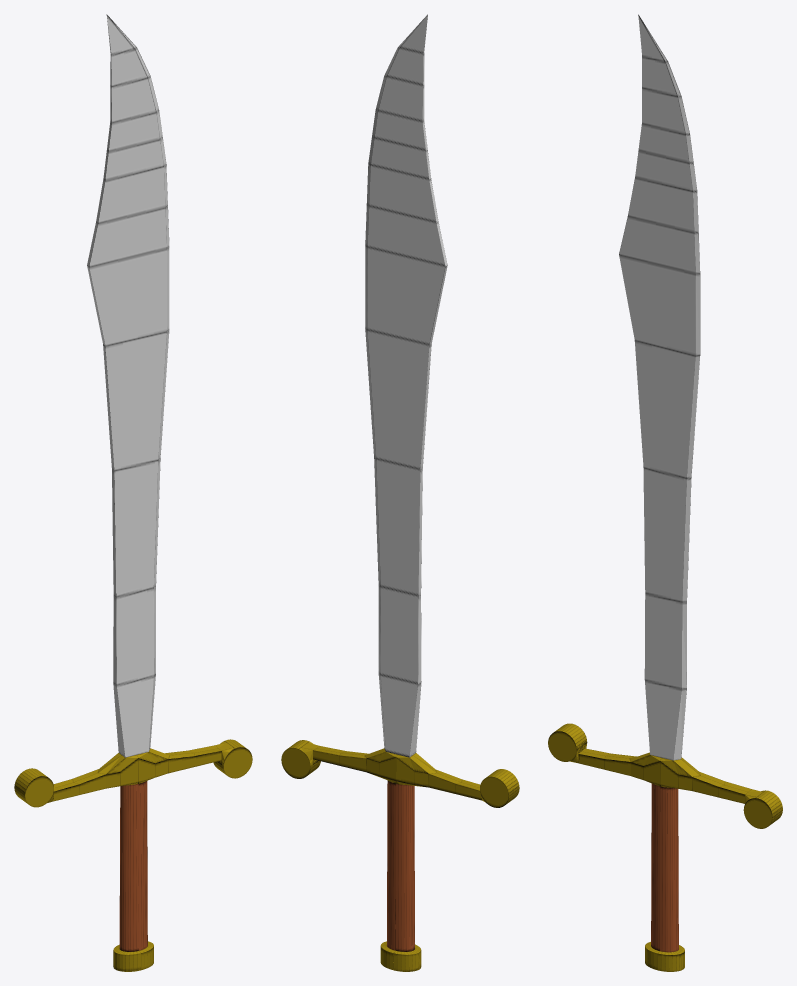
File: scimitar.dae
3 views of the same model, side by side, from view 1: azimuth 30°, elevation 25°; view 2: azimuth 150°, elevation 25°; view 3: azimuth 330°, elevation 25° (orthographic).
Visible parts, largest first — view 1: Scimitar; view 2: Scimitar; view 3: Scimitar.
Boxes of the visible parts, bbox=[...] form: Scimitar: bbox=[14, 14, 252, 971]; Scimitar: bbox=[281, 14, 519, 971]; Scimitar: bbox=[548, 14, 782, 971].
Size of the model in its own units: 0.2403 by 0.0275 by 0.9666.
1 material, 1 textured.
